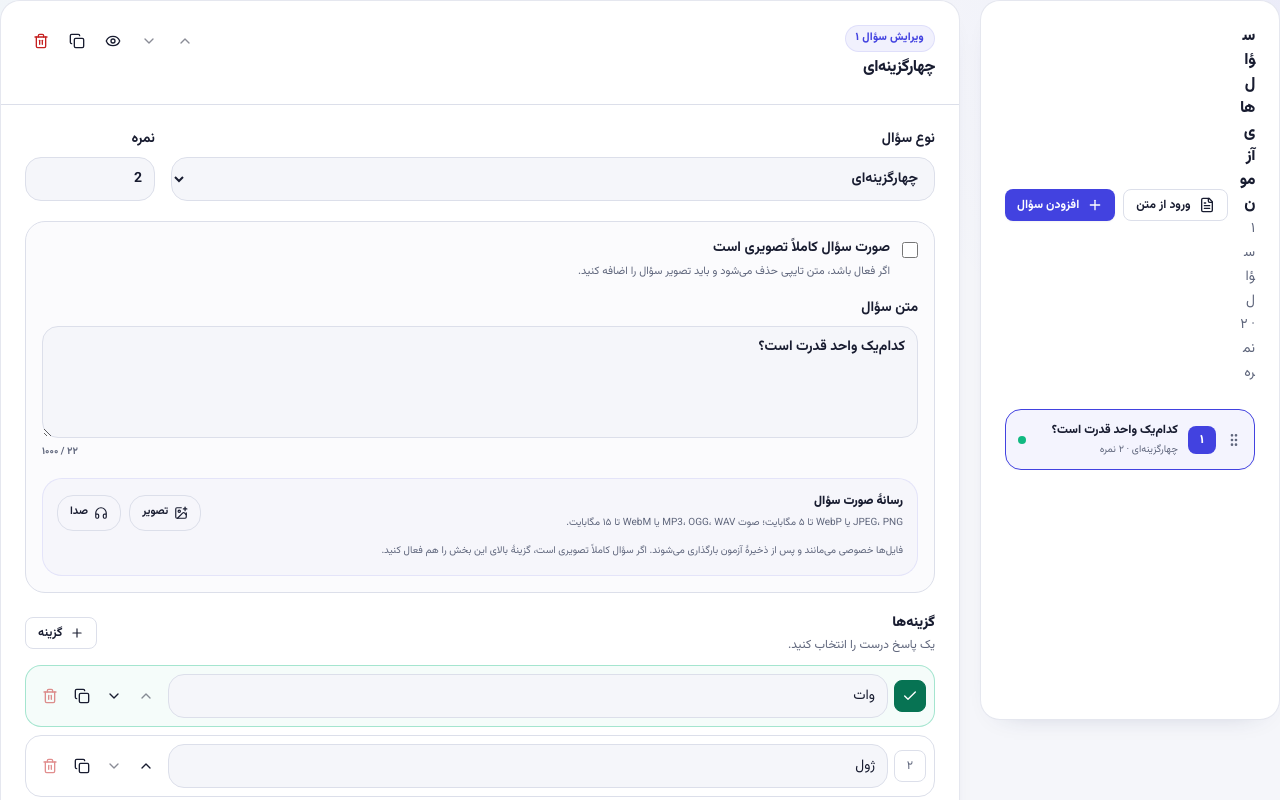
adding a question › asks for the type before showing any field
Click the button "افزودن سؤال".
click(1060, 205)  # box [1005,189,1115,221]
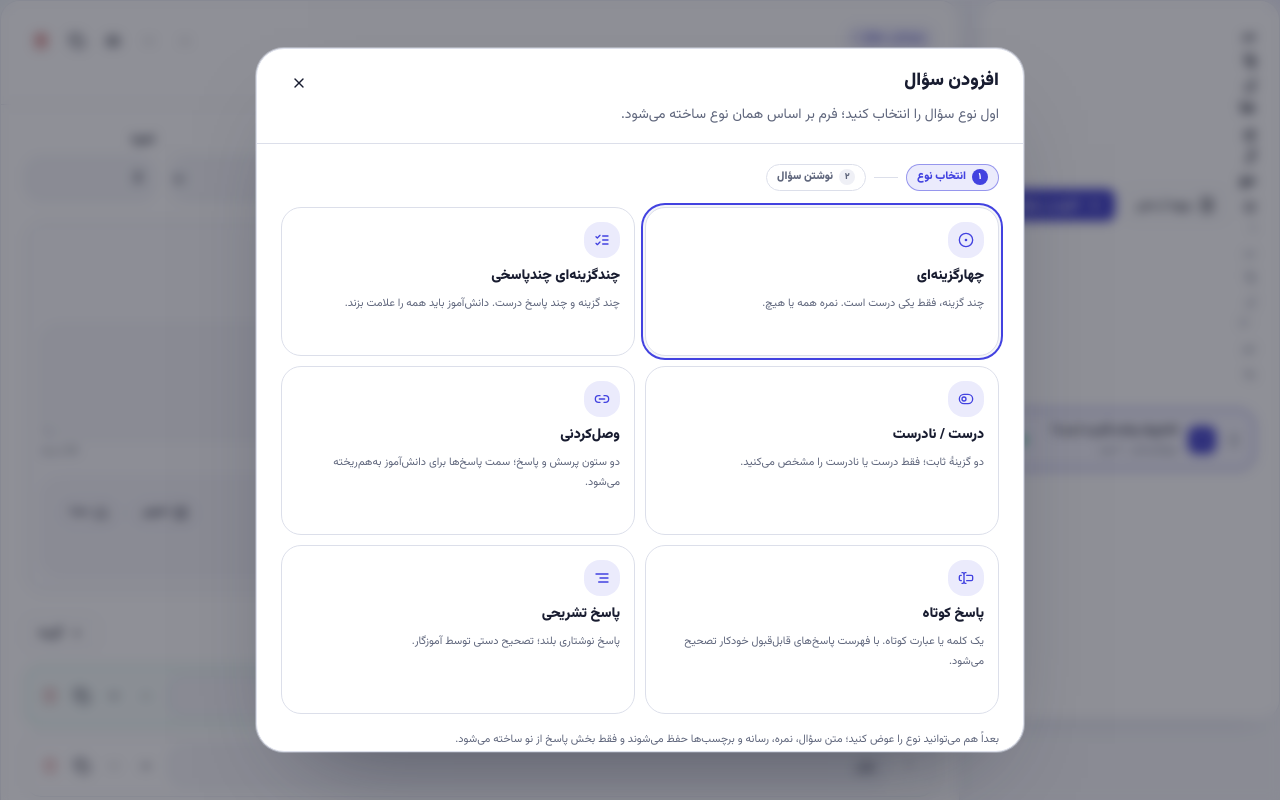
Expected: the button "چهارگزینه‌ای چند گزینه، فقط یکی درست است. نمره همه یا هیچ." is shown, [645,206,999,356]
Expected: the button "چندگزینه‌ای چندپاسخی" is shown, [281,206,635,356]
Expected: the button "وصل‌کردنی" is shown, [281,366,635,534]
